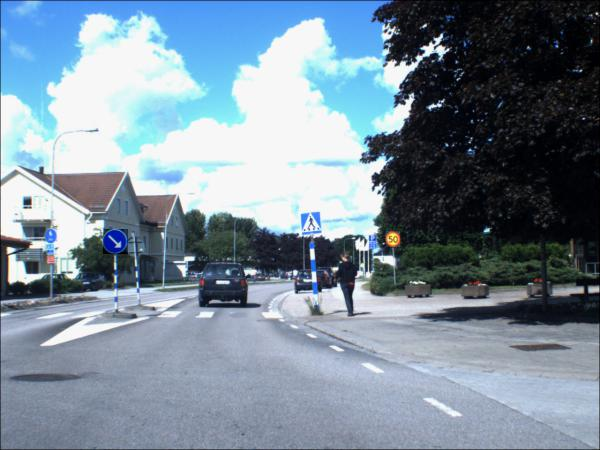50_SIGN: (387, 232, 402, 249)
PASS_RIGHT_SIDE: (104, 230, 130, 256)
PEDESTRIAN_CROSSING: (302, 214, 324, 236)
